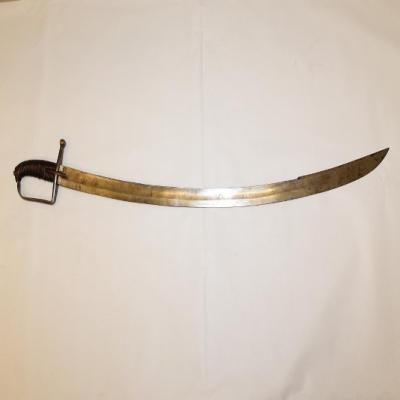weapon: (14, 141, 389, 210)
